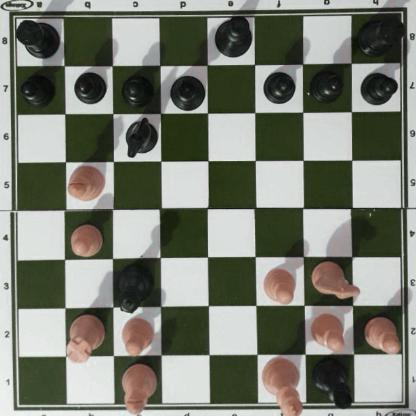black-bishop: (311, 358, 353, 410), (168, 73, 205, 111)
black-king: (212, 14, 252, 57)
black-knight: (122, 117, 159, 158)
black-pawn: (360, 69, 396, 105), (310, 68, 344, 101), (263, 68, 295, 103), (20, 71, 53, 104), (121, 71, 152, 106), (73, 70, 104, 104)
black-queen: (114, 261, 154, 315)
black-rook: (12, 15, 60, 58), (358, 14, 406, 55)
white-bishop: (121, 362, 159, 414), (66, 164, 104, 201)
white-king: (261, 357, 305, 416)
white-knight: (309, 259, 361, 300)
white-pawn: (309, 312, 346, 352), (119, 316, 154, 356), (363, 316, 400, 352), (68, 222, 104, 259), (262, 266, 295, 303)
white-rook: (64, 312, 107, 363)
